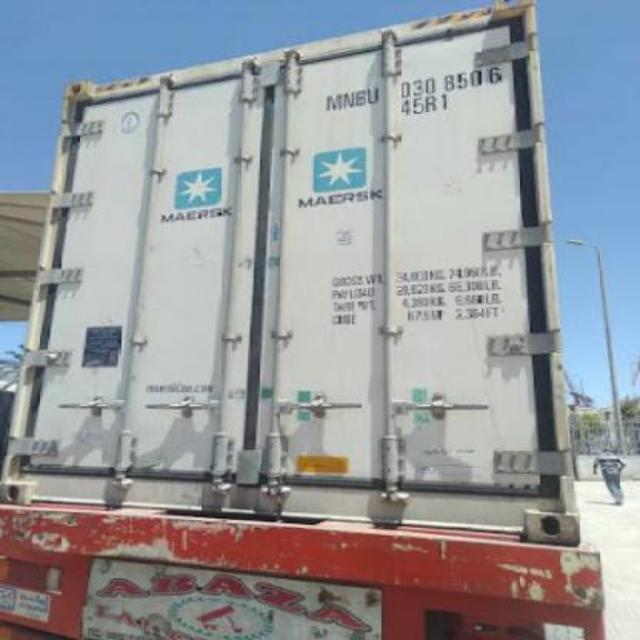0: (468, 66, 482, 90), (396, 81, 412, 99), (424, 76, 438, 94)
3: (412, 78, 426, 98)
5: (456, 70, 469, 92)
6: (488, 65, 502, 85)
8: (442, 73, 456, 91)
B: (354, 90, 368, 108)
M: (324, 94, 340, 110)
N: (342, 92, 356, 110)
U: (366, 87, 382, 105)
